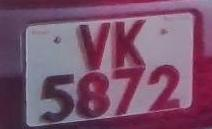2: (144, 59, 186, 117)
5: (37, 68, 77, 124)
7: (107, 63, 153, 117)
8: (71, 68, 115, 120)
K: (111, 13, 151, 71)
V: (76, 17, 112, 73)
